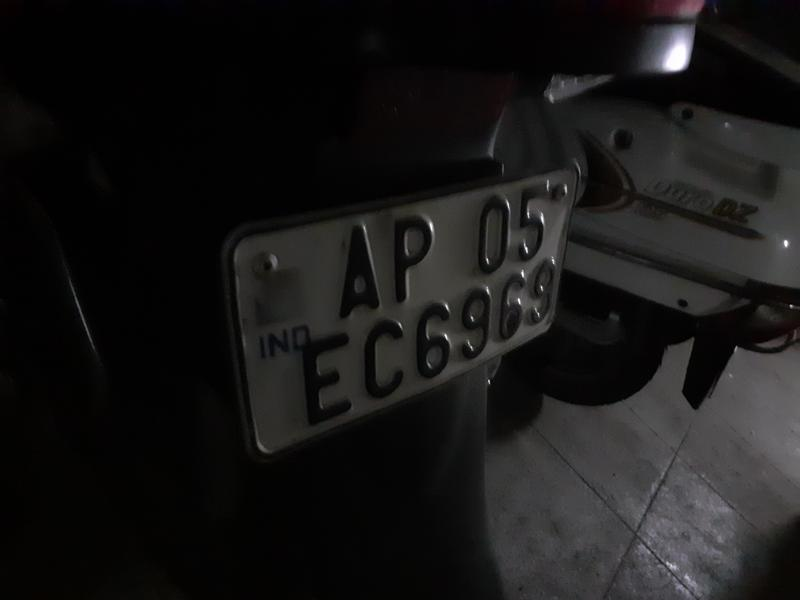numberplate: (220, 174, 635, 456)
